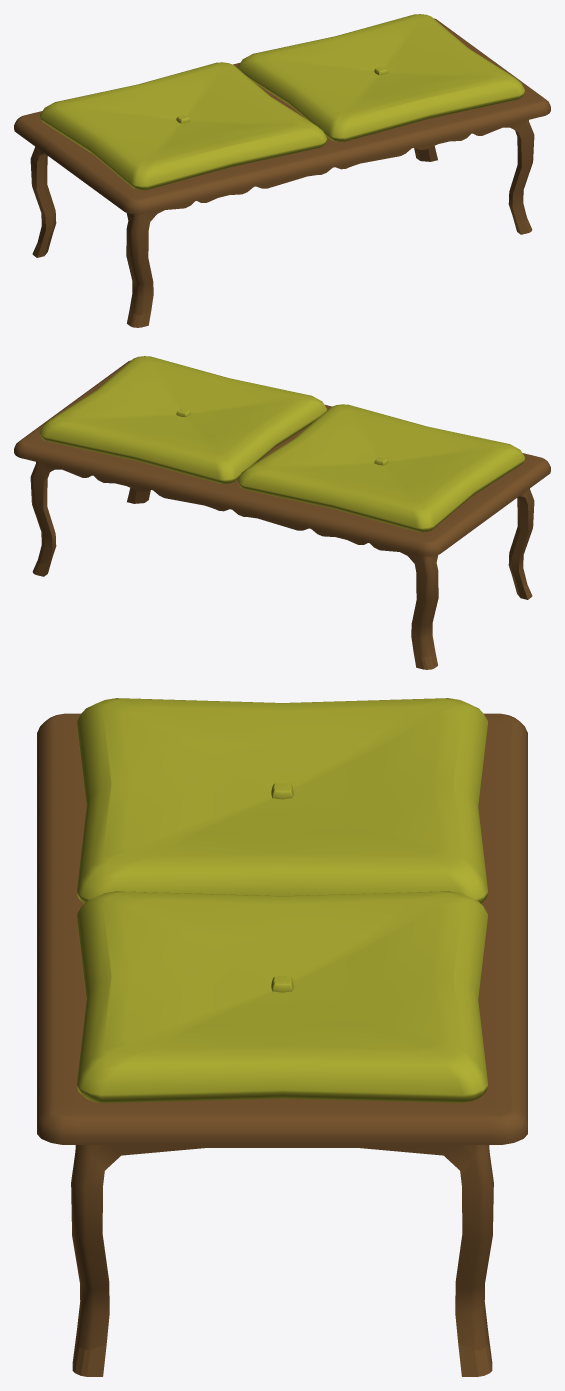
File: Bench_Cushined.fbx
3 views of the same model, one above another, from view 1: azimuth 30°, elevation 25°; view 2: azimuth 150°, elevation 25°; view 3: azimuth 270°, elevation 25° (orthographic). The views are drawn at different scales.
Visible parts, largest first — view 1: polySurface7361; view 2: polySurface7361; view 3: polySurface7361.
Part boxes in pixels (x1,y1,x2,y2): polySurface7361: (14, 14, 550, 327); polySurface7361: (14, 356, 550, 669); polySurface7361: (37, 698, 527, 1376).
Size of the model in its own units: 2 by 0.6813 by 1.
